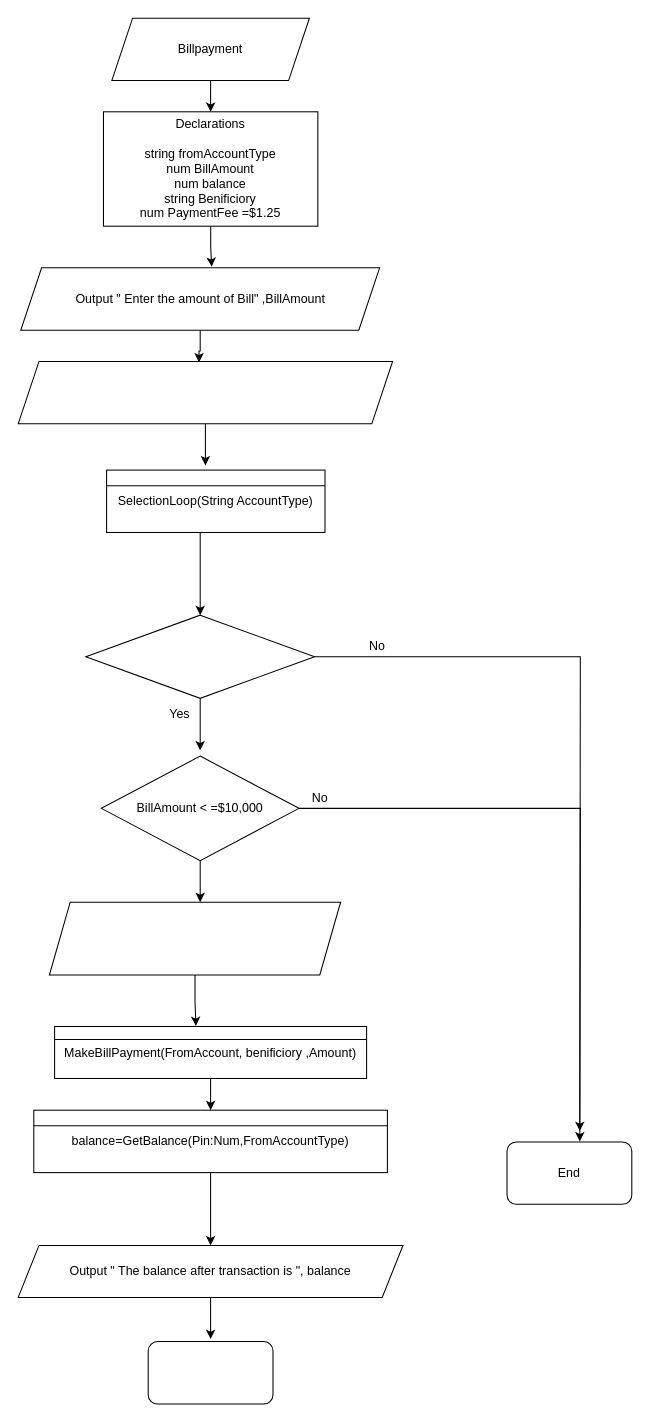
Image size: 650x1423. Some labels were removed from this diagram. Here are the shapes that lost their labels. From the top down, the box of each, then its label:
(17, 360, 393, 424): BillAmount = BillAmount + PaymentFee
(85, 614, 315, 698): AccountType = Chequing
(48, 901, 341, 975): Output " Enter benificiory name", Benificiory
(147, 1341, 273, 1404): return
